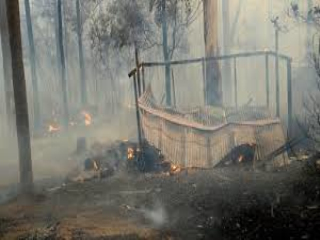fire: (43, 111, 62, 137), (122, 143, 140, 161), (78, 108, 95, 126)
smoke: (102, 77, 136, 139)
